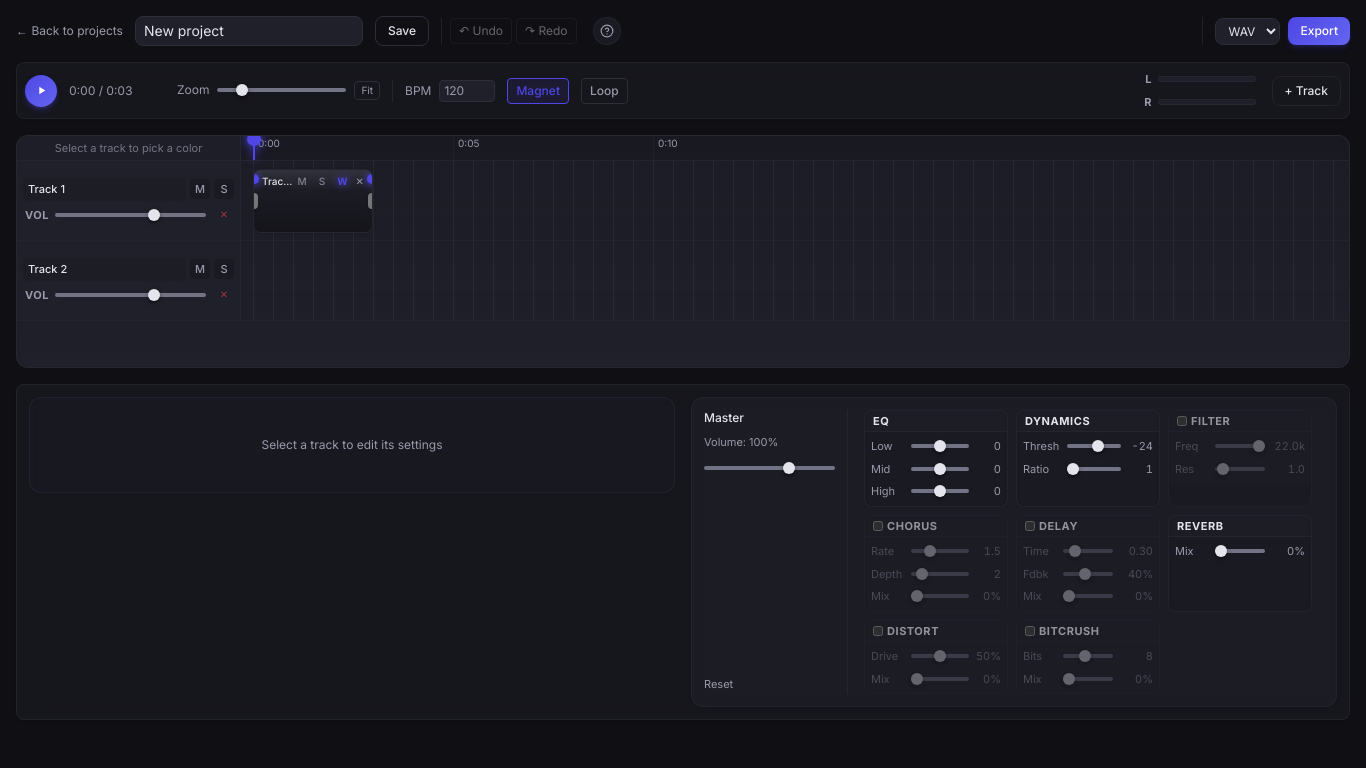
Scenario: does not publish wrong-tempo audio when the required stretch fails
Click the button "Export": (1319, 31) [1288,17,1350,45]
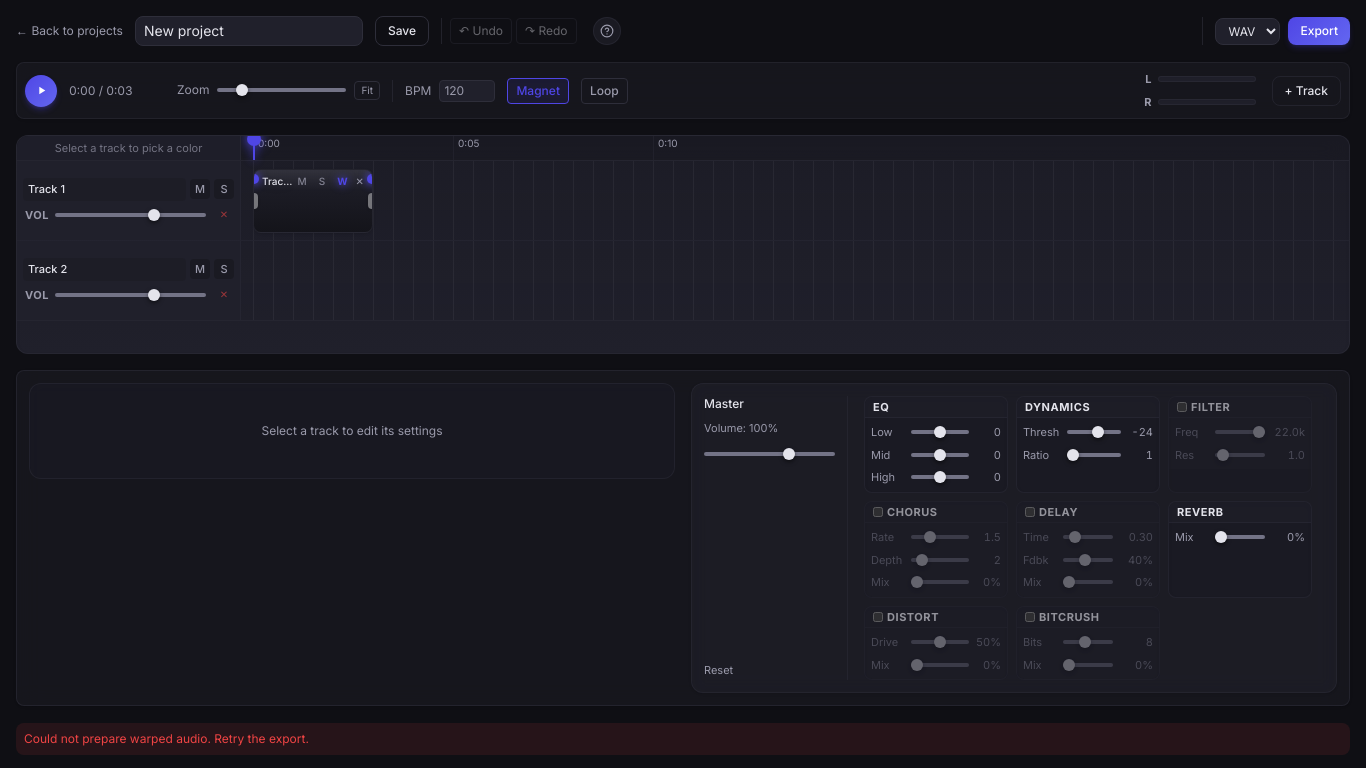
Expected: the text "Could not prepare warped audio. Retry the export." is shown, [16,722,1350,754]
